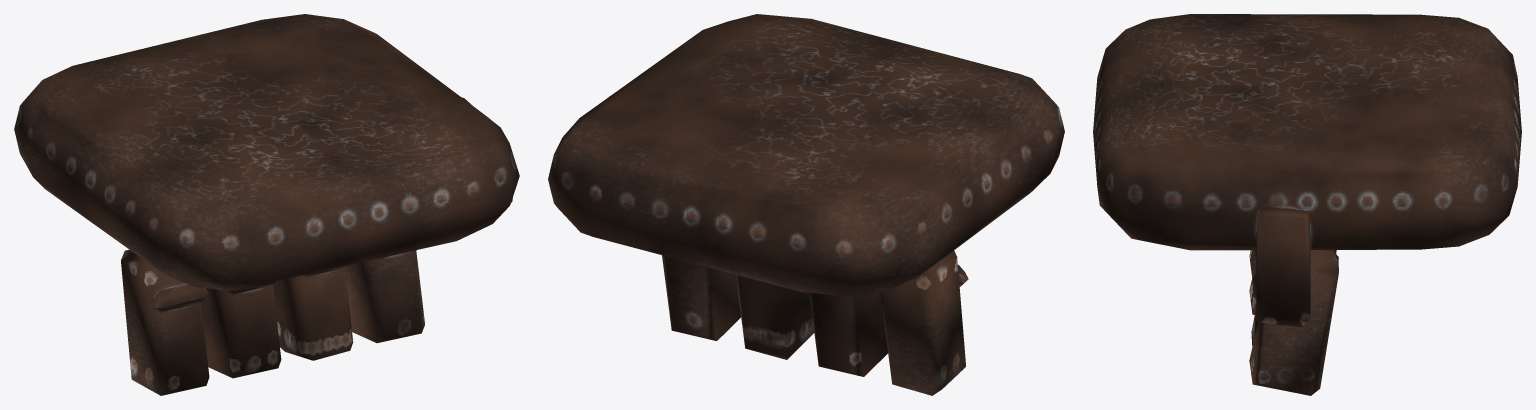
The model's file is MatonImp_BrazoMano_Oxido.fbx.
The picture shows the model from 3 angles, left to right: view 1: azimuth 30°, elevation 25°; view 2: azimuth 150°, elevation 25°; view 3: azimuth 270°, elevation 25°; orthographic projection. The views are drawn at different scales.
Visible parts, largest first — view 1: MatonImp_BrazoMano_Oxido; view 2: MatonImp_BrazoMano_Oxido; view 3: MatonImp_BrazoMano_Oxido.
Boxes of the visible parts, box(x1,y1,x2,y2) form: MatonImp_BrazoMano_Oxido: box(14, 14, 519, 395); MatonImp_BrazoMano_Oxido: box(548, 14, 1064, 395); MatonImp_BrazoMano_Oxido: box(1093, 14, 1521, 395).
Size of the model in its own units: 1.39 by 0.8247 by 1.28.
